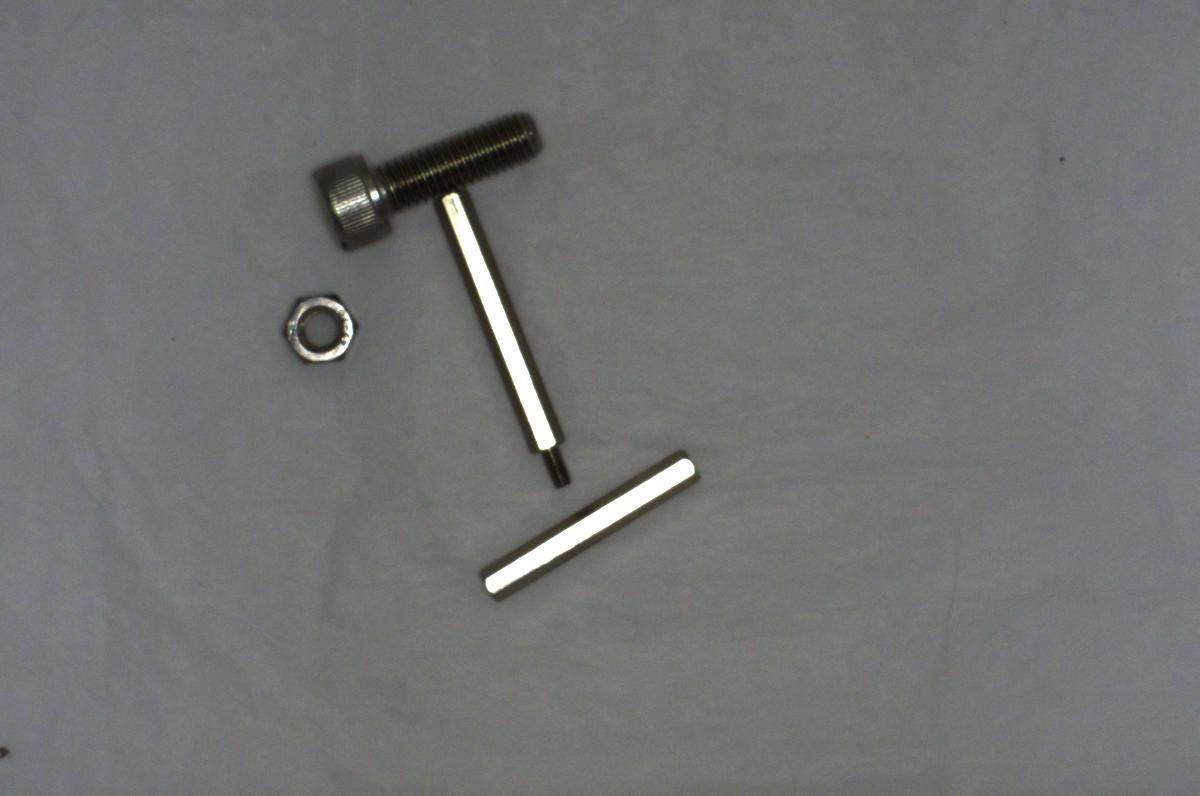Double hexagonal column: (481, 447, 704, 602)
Hexagon nut: (270, 282, 374, 381)
Hexagon screw: (302, 103, 538, 248)
Hexagonal steel column: (431, 187, 570, 488)
